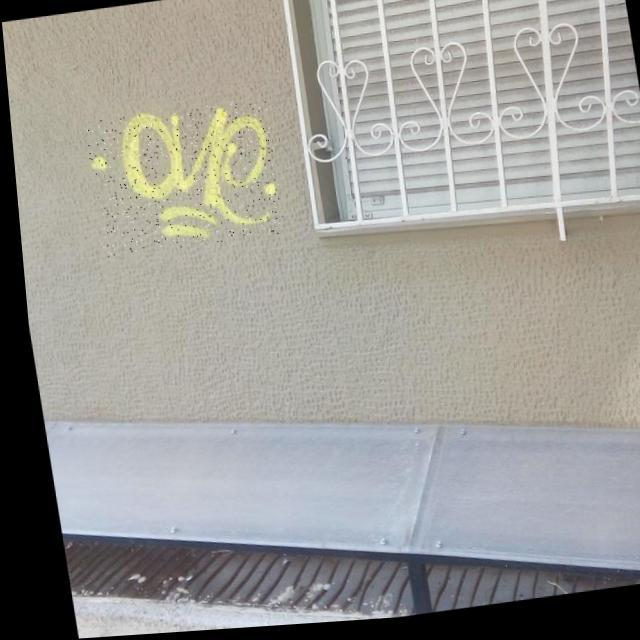-: (80, 100, 282, 258)
